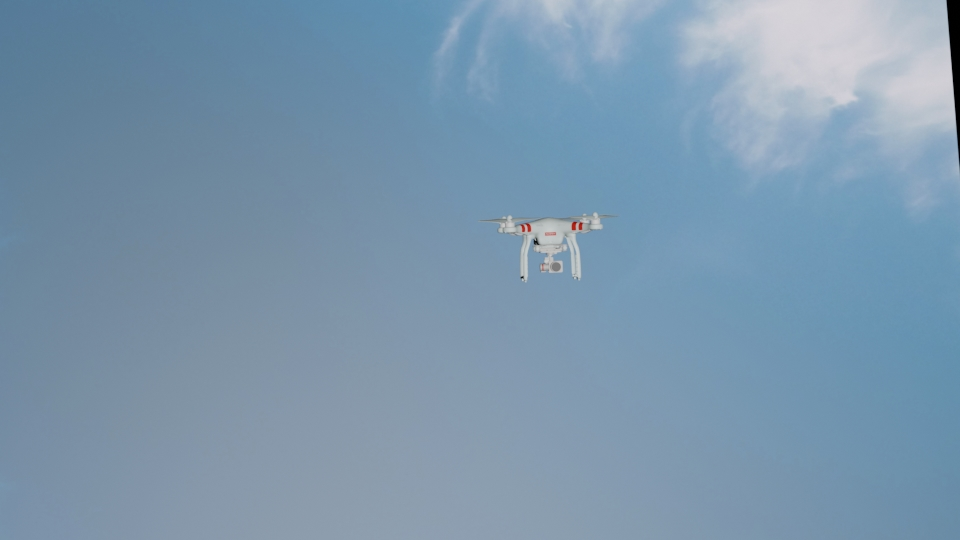drone: (480, 208, 617, 284)
